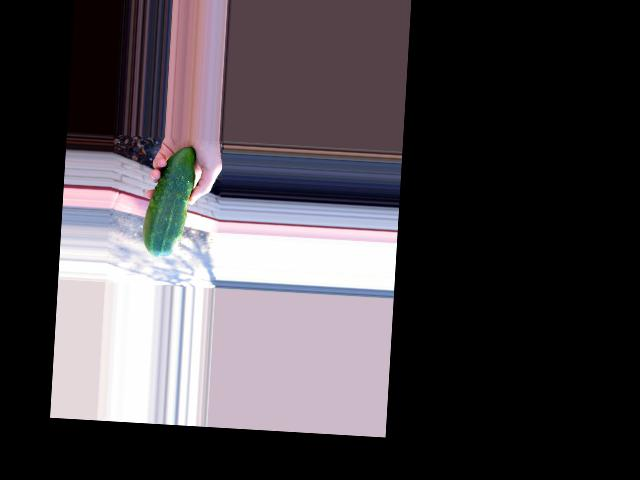cucumber: (140, 144, 196, 258)
